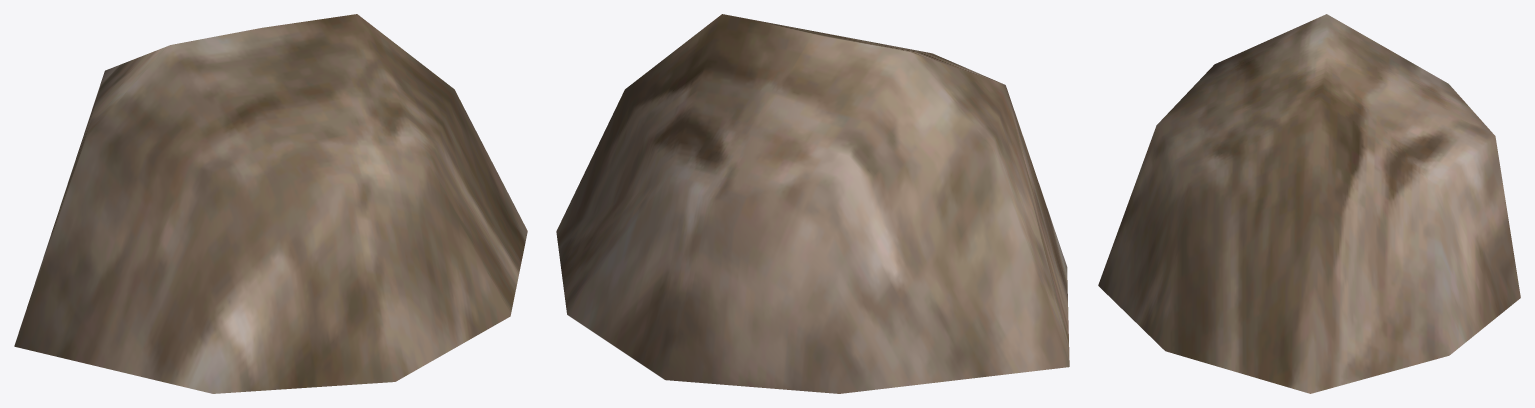
Rendered from OVERHILL_A_01_ROCK82.fbx.
The picture shows the model from 3 angles, left to right: view 1: azimuth 30°, elevation 25°; view 2: azimuth 150°, elevation 25°; view 3: azimuth 270°, elevation 25°; orthographic projection. The views are drawn at different scales.
Parts seen in each view (by area): view 1: OVERHILL_A_01_ROCK82; view 2: OVERHILL_A_01_ROCK82; view 3: OVERHILL_A_01_ROCK82.
Part boxes in pixels (x1,y1,x2,y2): OVERHILL_A_01_ROCK82: [14, 14, 527, 393]; OVERHILL_A_01_ROCK82: [556, 14, 1069, 393]; OVERHILL_A_01_ROCK82: [1098, 14, 1520, 393].
Bounding box in the file's own units: 4609 × 2312 × 3830.
Materials: 1 (1 with a texture image).
